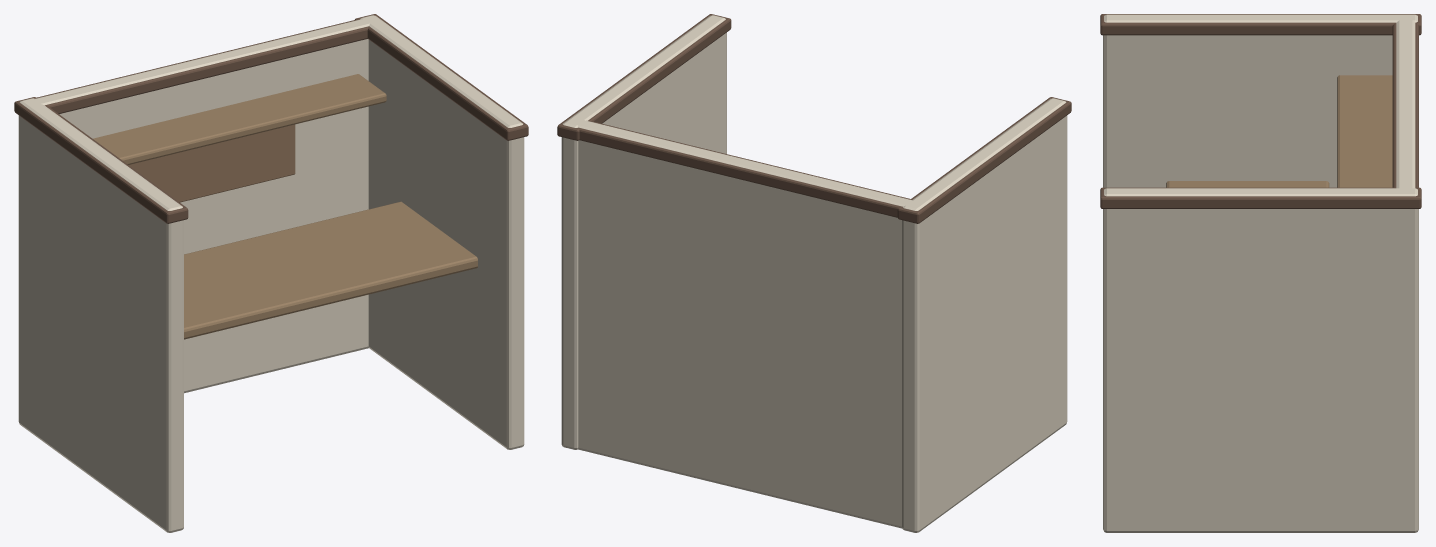
3 renders of one model, left to right at view 1: azimuth 30°, elevation 25°; view 2: azimuth 150°, elevation 25°; view 3: azimuth 270°, elevation 25°, orthographic. The views are drawn at different scales.
Visible parts, largest first — view 1: cubicle; view 2: cubicle; view 3: cubicle.
Boxes of the visible parts, bbox=[...] form: cubicle: bbox=[14, 14, 528, 532]; cubicle: bbox=[557, 14, 1071, 532]; cubicle: bbox=[1100, 14, 1421, 532].
Bounding box in the file's own units: 1.66 × 1.42 × 1.22.
